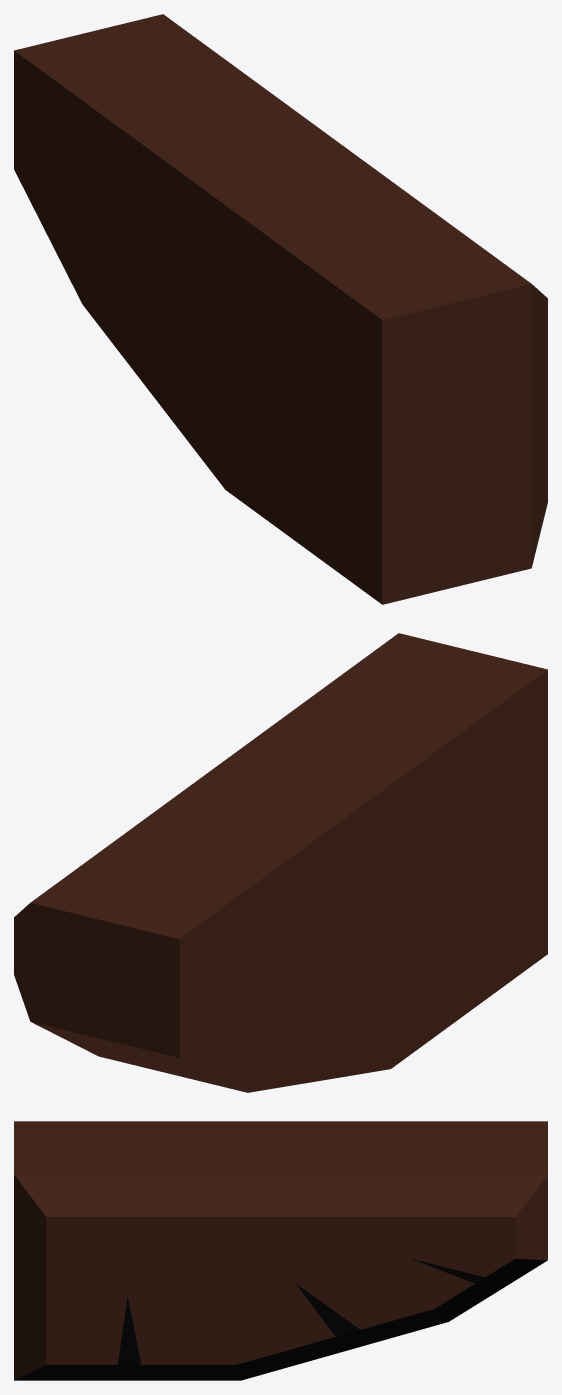
File: skrzydlo.fbx
3 renders of one model, top to bottom at view 1: azimuth 30°, elevation 25°; view 2: azimuth 150°, elevation 25°; view 3: azimuth 270°, elevation 25°, orthographic. The views are drawn at different scales.
Visible parts, largest first — view 1: Cube; view 2: Cube; view 3: Cube.
Boxes of the visible parts, bbox=[...] form: Cube: bbox=[14, 14, 547, 604]; Cube: bbox=[14, 633, 547, 1092]; Cube: bbox=[14, 1121, 547, 1380].
Bounding box in the file's own units: 138 × 200 × 469.
Materials: 1 (1 with a texture image).
